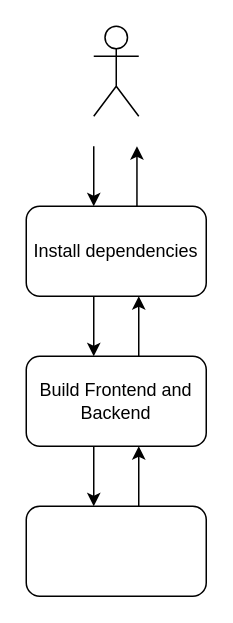
Some shapes in this 233 by 623 pixel diagram are drawn without their labels. Each missing label, with the box of its shape:
Deploy Frontend on S3 and Backend on EB: (25, 505, 206, 596)
user: (92, 25, 139, 116)
